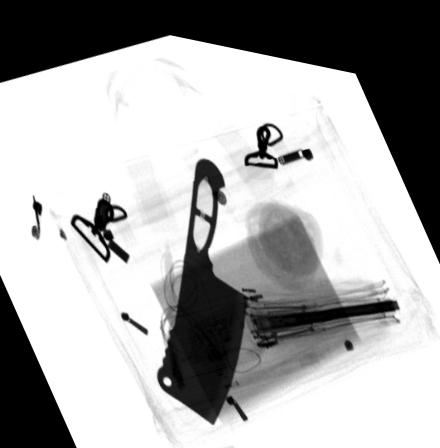Knife: (156, 147, 248, 416)
